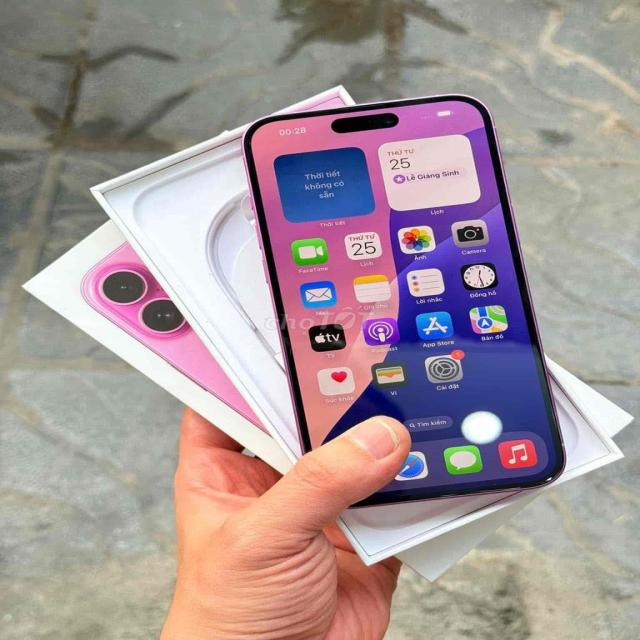gen_16: (229, 86, 571, 508)
